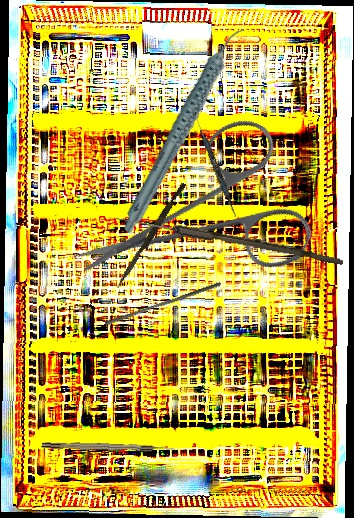Handpiece: (85, 24, 285, 236)
Hook Surgical: (41, 441, 176, 453)
Iris Scissors: (74, 79, 344, 349)
Pusher: (115, 180, 187, 292), (104, 277, 222, 330)
Spatula Surgical: (189, 111, 241, 218)
Surgical Spoon: (114, 214, 345, 265)
